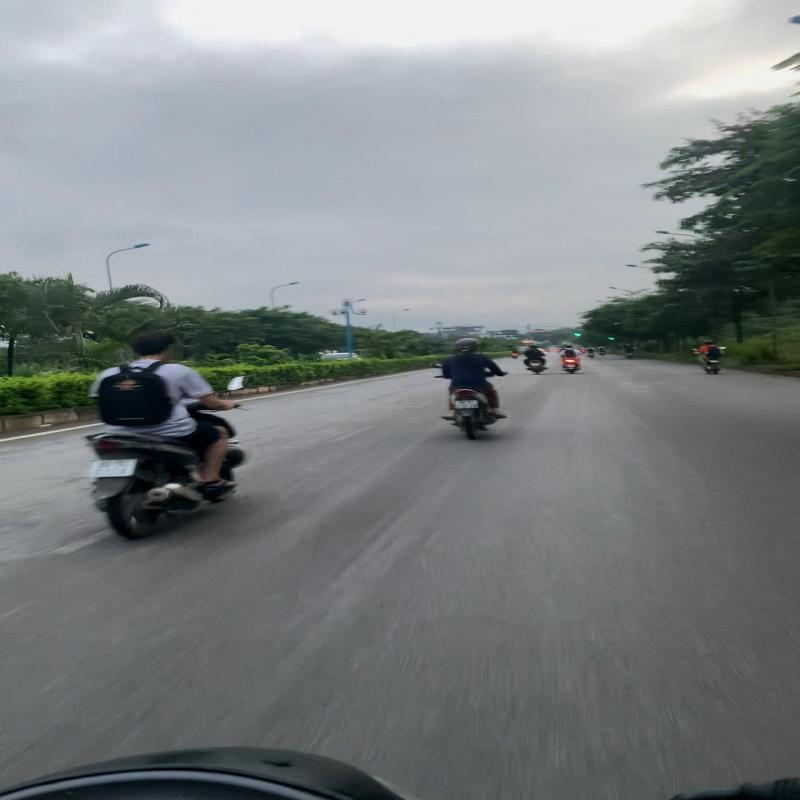nohelmet: (126, 326, 181, 362)
